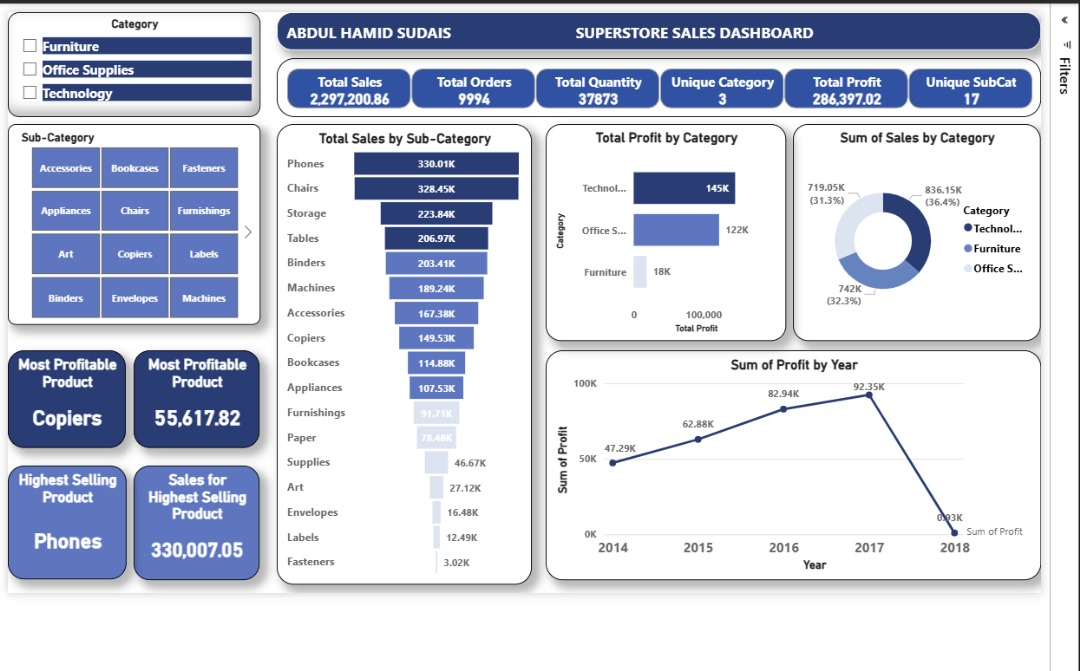

Layout of this report page (visuals, bound fields, positions):
{"tool":"powerbi","page":{"name":"Page 1","canvas":[1280,720],"ordinal":0},"visuals":[{"type":"cardVisual","fields":{"Data":["Cal_Measure.TotalSales","Cal_Measure.TotalOrders","Cal_Measure.TotalQuantity","Cal_Measure.UniqueCategory","Cal_Measure.TotalProfit","Cal_Measure.UniqueSubCat"]},"box":[332.9,57.4,947.1,73.1],"z":0},{"type":"slicer","fields":{"Values":["Orders.Sub-Category"]},"box":[0,138.3,312.7,248.6],"z":1000},{"type":"slicer","title":"Category","fields":{"Values":["Orders.Category"]},"box":[0,0,312.7,130.5],"z":2000},{"type":"donutChart","fields":{"Category":["Orders.Category"],"Y":["Sum(Orders.Sales)"]},"box":[972.9,138.3,307.1,268.8],"z":3000},{"type":"lineChart","fields":{"Category":["Orders.Ship Date.Variation.Date Hierarchy.Year","Orders.Ship Date.Variation.Date Hierarchy.Quarter","Orders.Ship Date.Variation.Date Hierarchy.Month","Orders.Ship Date.Variation.Date Hierarchy.Day"],"Y":["Sum(Orders.Profit)"]},"box":[665.9,419.5,614.1,284.6],"z":4000},{"type":"textbox","box":[332.9,0,947.1,47.2],"z":5000},{"type":"funnel","fields":{"Category":["Orders.Sub-Category"],"Y":["Cal_Measure.Total Sales"]},"box":[332.9,138.3,316.1,571.4],"z":6000},{"type":"card","title":"Most Profitable Product","fields":{"Values":["Min(Orders.Sub-Category)"]},"box":[0,419.5,146.2,121.5],"z":7000},{"type":"card","title":"Most Profitable Product","fields":{"Values":["Cal_Measure.Total Profit"]},"box":[156.3,419.5,156.3,121.5],"z":8000},{"type":"card","title":"Sales for Highest Selling Product","fields":{"Values":["Cal_Measure.Total Sales"]},"box":[156.3,562.4,156.3,141.7],"z":9000},{"type":"card","title":"Highest Selling Product","fields":{"Values":["Min(Orders.Sub-Category)"]},"box":[0,562,146.7,141.5],"z":10000},{"type":"barChart","fields":{"Category":["Orders.Category"],"Y":["Cal_Measure.Total Profit"]},"box":[665.9,138.3,298.1,268.8],"z":11000}]}

Visuals, with their boxes in screenshot pixels (x1, y1, x2, y2):
cardVisual - Cal_Measure.TotalSales x Cal_Measure.TotalOrders: pyautogui.locateOnScreen(276, 57, 1036, 116)
slicer - Orders.Sub-Category: pyautogui.locateOnScreen(8, 122, 259, 322)
"Category" slicer: pyautogui.locateOnScreen(8, 11, 259, 116)
donutChart - Orders.Category x Sum(Orders.Sales): pyautogui.locateOnScreen(789, 122, 1036, 338)
lineChart - Orders.Ship Date.Variation.Date Hierarchy.Year x Orders.Ship Date.Variation.Date Hierarchy.Quarter: pyautogui.locateOnScreen(543, 348, 1036, 576)
textbox: pyautogui.locateOnScreen(276, 11, 1036, 49)
funnel - Orders.Sub-Category x Cal_Measure.Total Sales: pyautogui.locateOnScreen(276, 122, 529, 581)
"Most Profitable Product" card: pyautogui.locateOnScreen(8, 348, 126, 445)
"Most Profitable Product" card: pyautogui.locateOnScreen(134, 348, 259, 445)
"Sales for Highest Selling Product" card: pyautogui.locateOnScreen(134, 463, 259, 576)
"Highest Selling Product" card: pyautogui.locateOnScreen(8, 462, 126, 576)
barChart - Orders.Category x Cal_Measure.Total Profit: pyautogui.locateOnScreen(543, 122, 782, 338)
